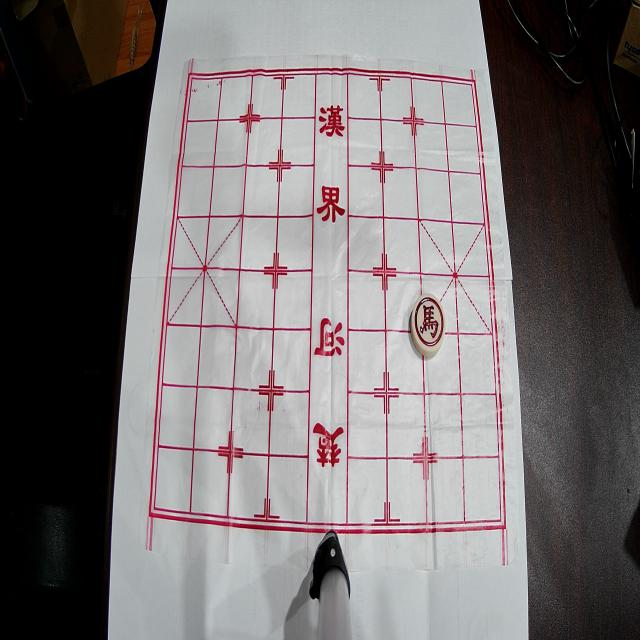red-horse: (411, 293, 446, 356)
